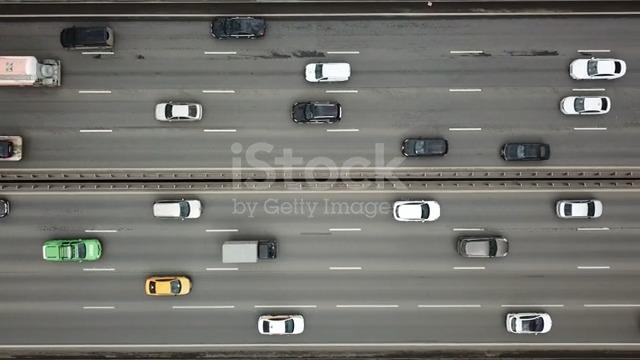Cars: (43, 238, 103, 263), (569, 57, 627, 81), (211, 17, 266, 40), (292, 101, 343, 125), (155, 101, 203, 123), (153, 199, 203, 220), (560, 96, 612, 116), (145, 275, 192, 297), (258, 314, 305, 336), (401, 137, 449, 158), (501, 142, 551, 162), (556, 199, 603, 220), (305, 62, 352, 83)
